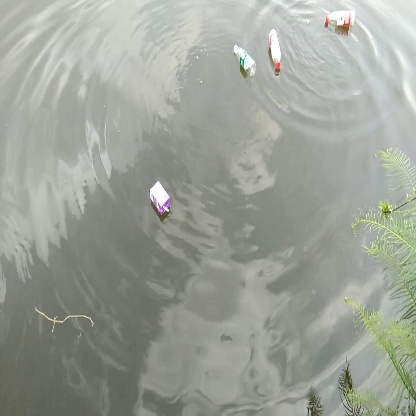bottle: (230, 43, 259, 82), (266, 28, 284, 72), (323, 8, 359, 27)
milk-box: (148, 179, 175, 217)
